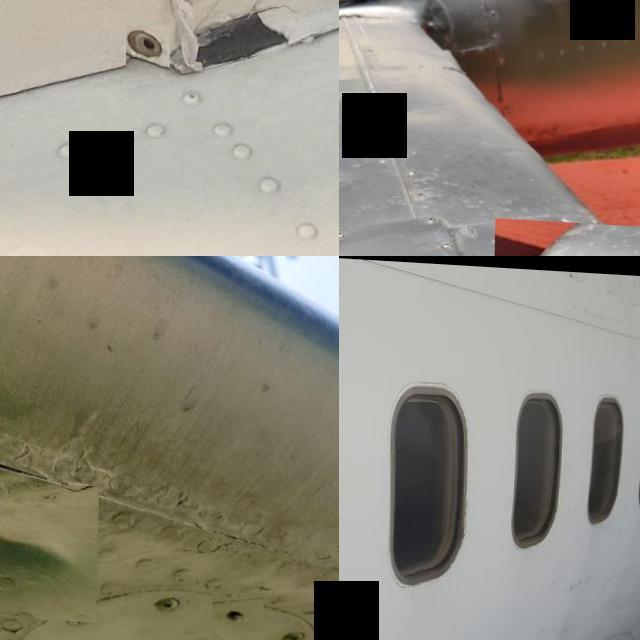Dent: (0, 473, 99, 618), (493, 214, 640, 256)
Missing_Fastener: (213, 586, 266, 636), (127, 20, 172, 66), (4, 627, 54, 640)
